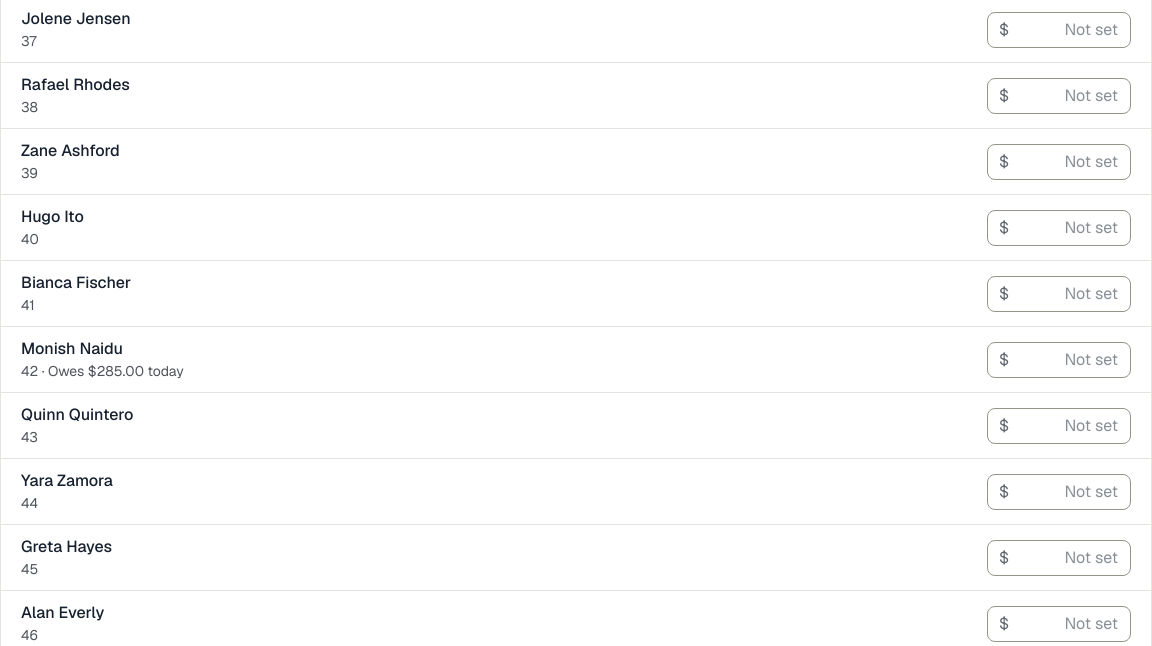
Test: correcting the date on opening balances › does not offer to save with the date cleared
(page scrolled)
Type "410" into the field labelled "$" in the row of "· Owes $285.00 today" at (1059, 360), box [987,342,1131,378]
(page scrolled)
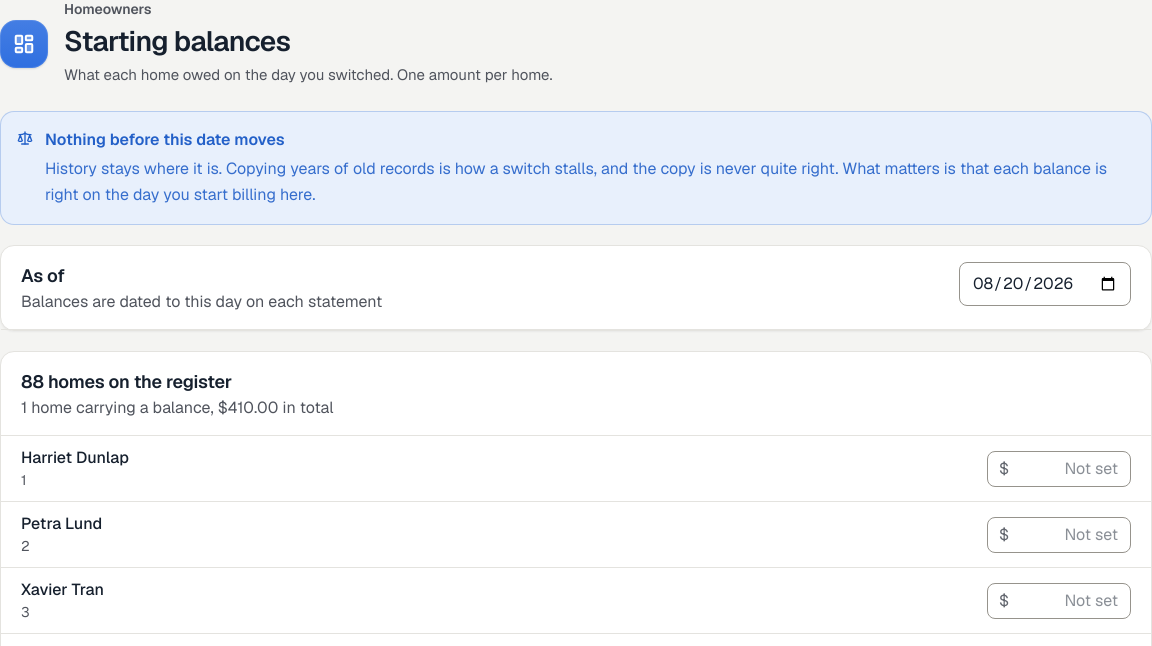
Clear the date field named "Balances as of" at (1045, 284), box [959,262,1131,306]
(page scrolled)
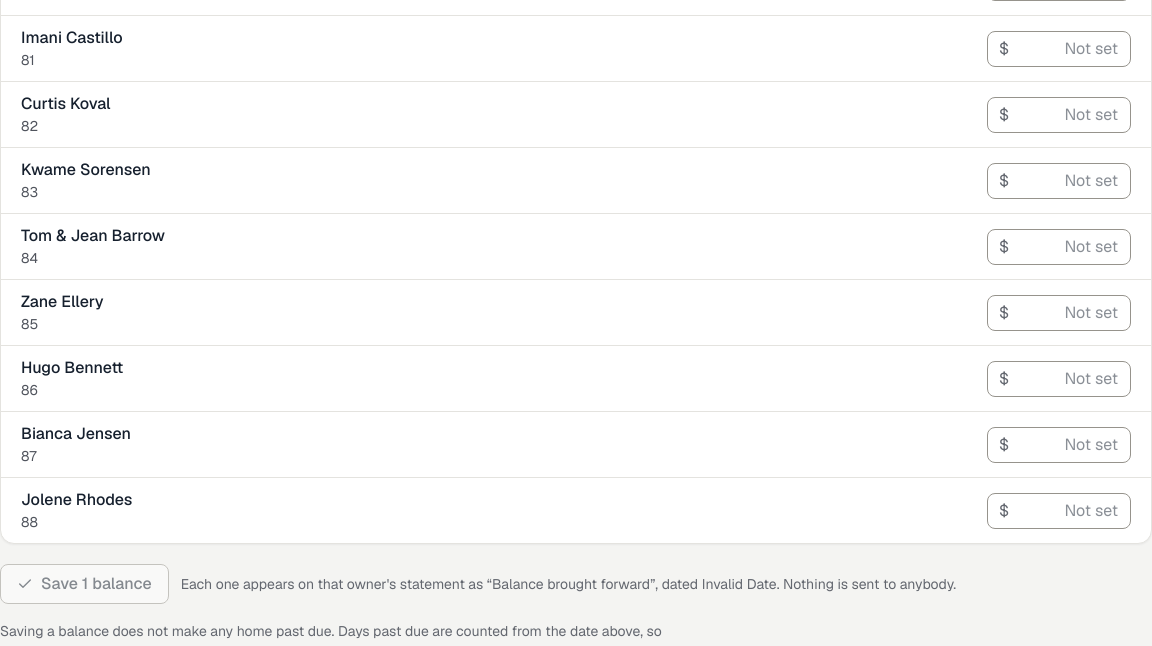
Expected: the button "Save 1 balance" is disabled, [0,564,169,604]
